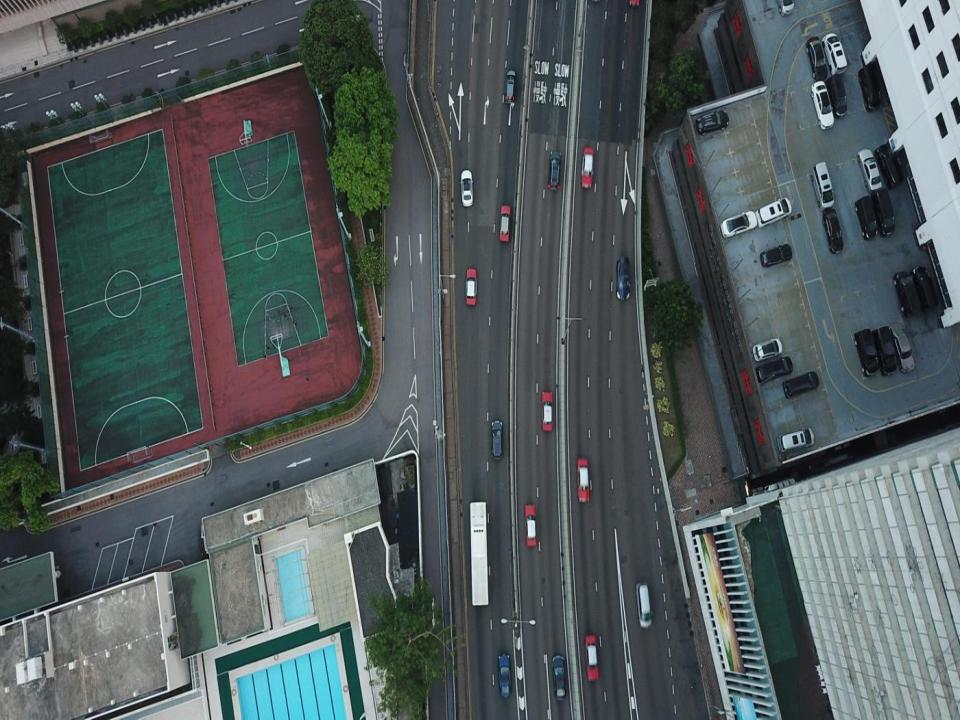bus: (470, 501, 489, 605)
car: (890, 322, 915, 373), (810, 80, 834, 130), (857, 147, 882, 193), (756, 198, 792, 228), (822, 207, 844, 255), (756, 356, 793, 384), (720, 210, 758, 237), (805, 36, 828, 80), (782, 372, 819, 398), (775, 428, 814, 452), (695, 111, 729, 135), (760, 244, 792, 267), (753, 338, 782, 362), (585, 635, 599, 682), (553, 655, 566, 702), (524, 504, 537, 548), (616, 256, 629, 300), (498, 654, 511, 696), (581, 147, 594, 188), (577, 458, 589, 502), (491, 420, 503, 460), (548, 151, 560, 189), (542, 391, 553, 432), (461, 170, 473, 206), (499, 205, 511, 241), (466, 268, 477, 305), (506, 70, 516, 103)
van: (875, 144, 904, 190), (810, 161, 834, 212), (873, 326, 897, 377), (854, 328, 878, 377), (894, 271, 919, 318), (912, 266, 938, 311), (873, 188, 895, 239), (822, 33, 847, 76), (859, 67, 881, 113), (826, 74, 848, 119), (855, 196, 877, 240), (636, 581, 652, 629), (776, 0, 794, 16)
